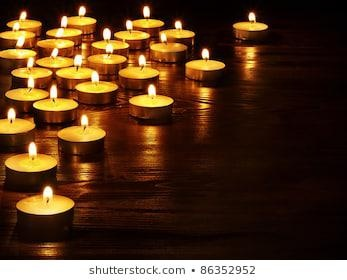fire: (41, 183, 54, 201), (49, 82, 59, 100), (27, 141, 36, 158), (79, 112, 89, 127)
